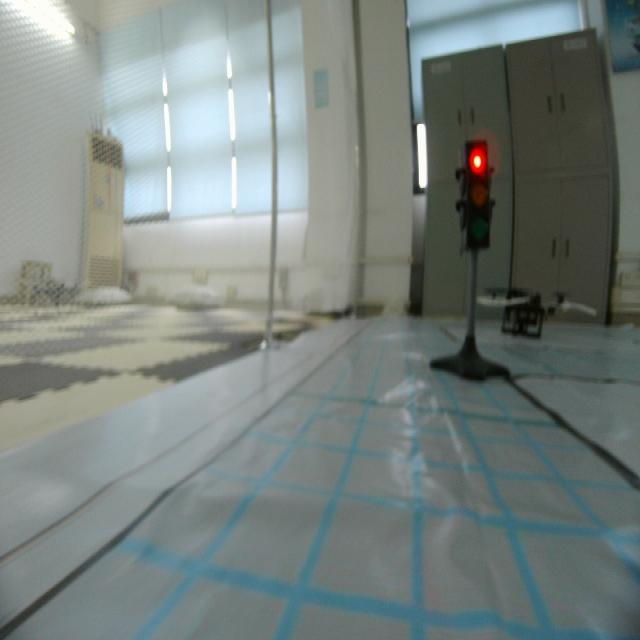red: (454, 141, 499, 260)
